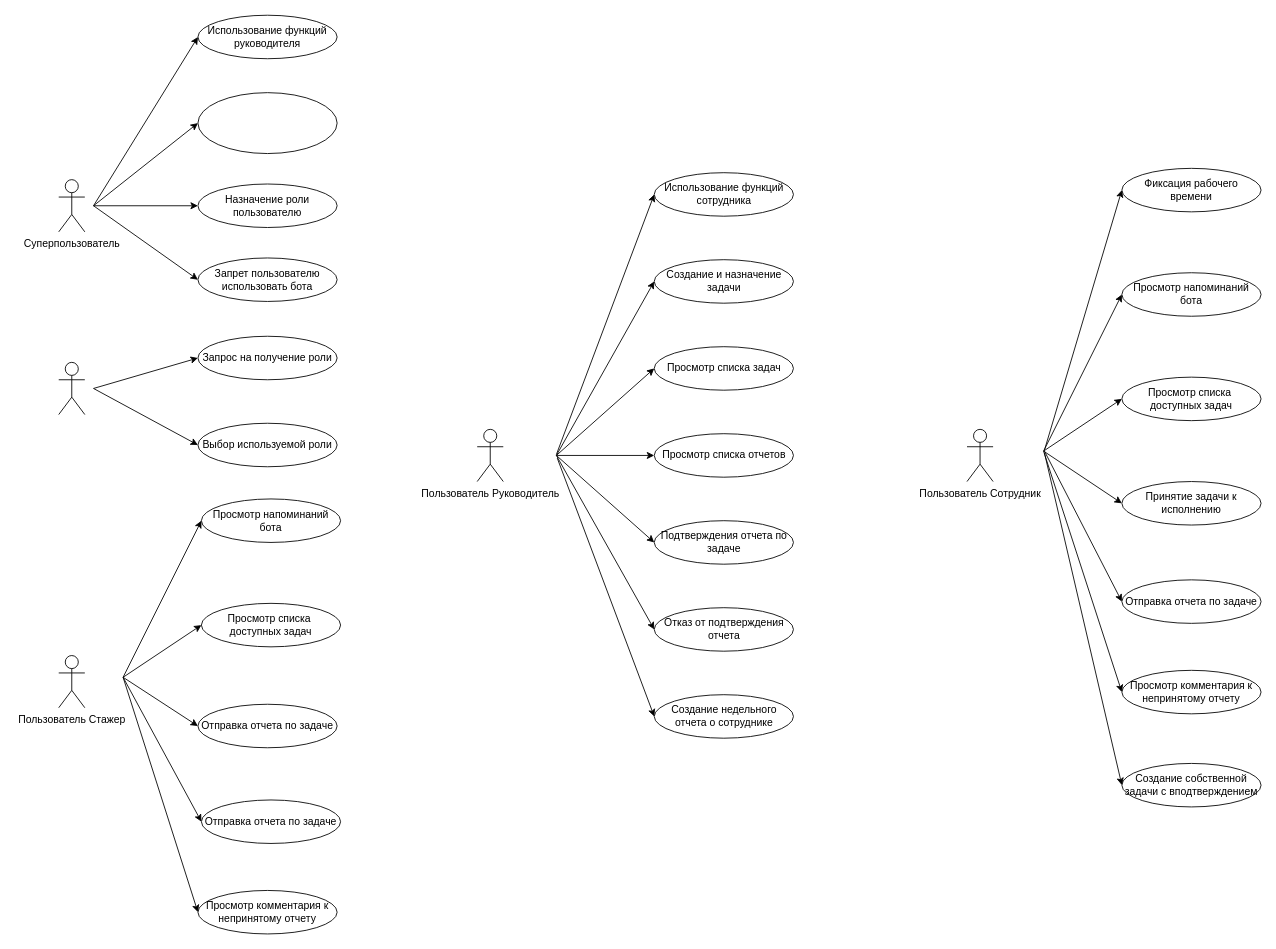
Image size: 1276x949. Some labels were removed from this diagram. Each missing label, with the centre of its shape:
"Пользователь без роли" belongs at (x=71, y=388).
"Просмотр списка пользователей, ожидающих получение роли" belongs at (x=267, y=123).
